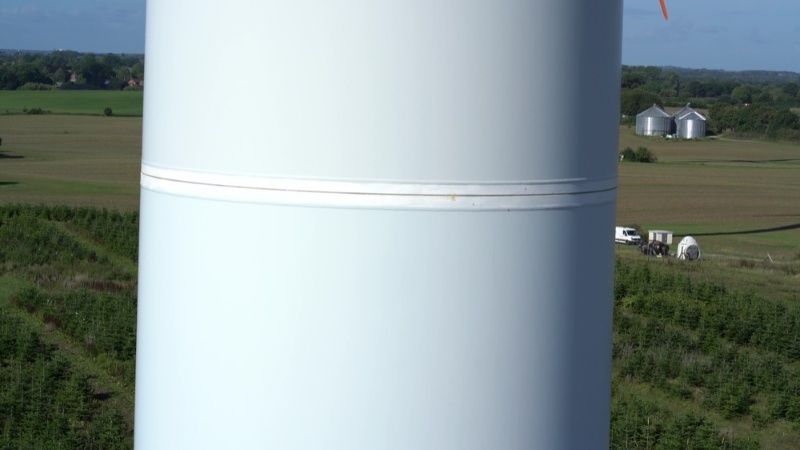weldseam: (139, 180, 617, 218), (141, 149, 619, 186)
